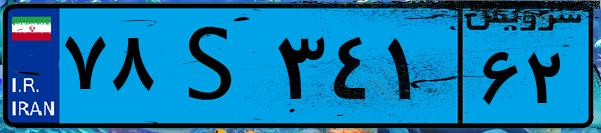1: (385, 28, 445, 110)
2: (525, 38, 570, 115)
3: (270, 28, 330, 110)
4: (330, 28, 385, 110)
6: (475, 38, 525, 113)
7: (57, 26, 110, 100)
8: (110, 28, 158, 98)
S: (158, 12, 270, 120)
